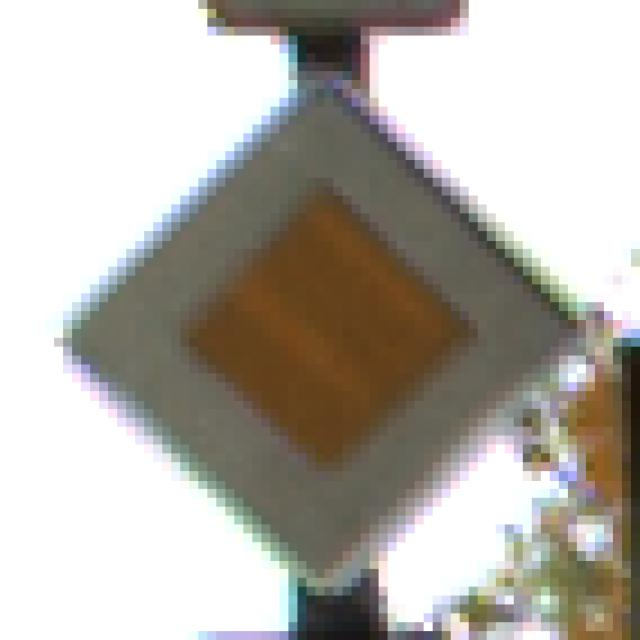Main Road: (55, 63, 587, 588)
